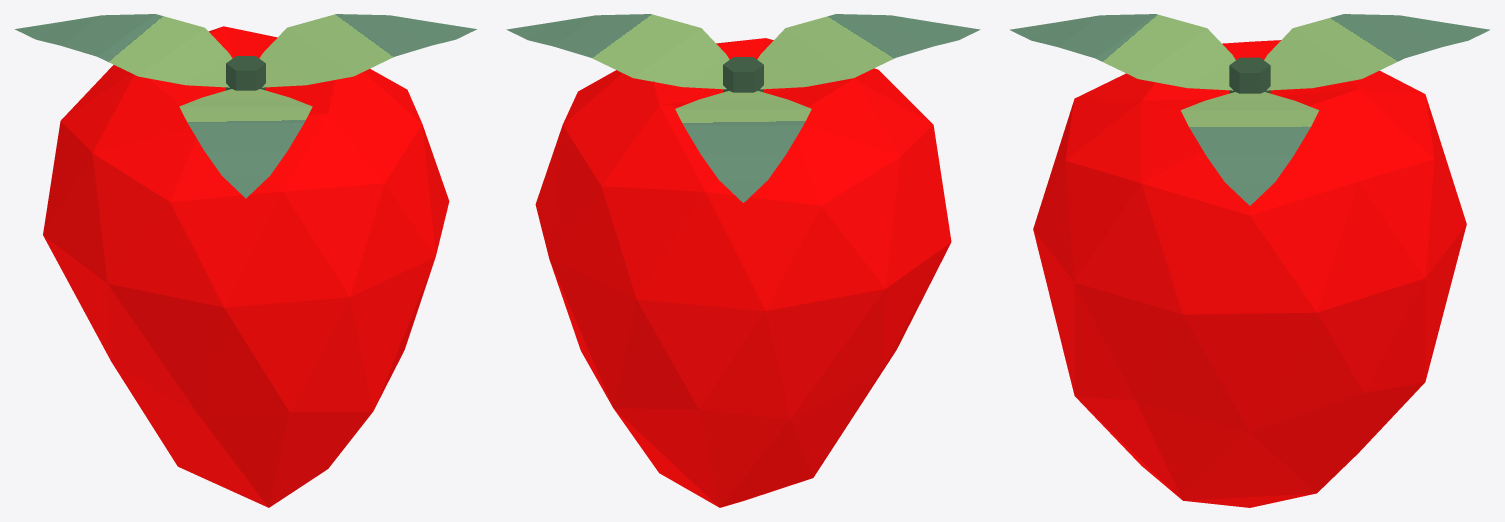
The model's file is StrawberryModel.glb.
3 views of the same model, side by side, from view 1: azimuth 30°, elevation 25°; view 2: azimuth 150°, elevation 25°; view 3: azimuth 270°, elevation 25° (orthographic). The views are drawn at different scales.
Parts seen in each view (by area): view 1: Icosphere; view 2: Icosphere; view 3: Icosphere.
Boxes of the visible parts, bbox=[...] form: Icosphere: bbox=[15, 14, 476, 507]; Icosphere: bbox=[506, 14, 980, 507]; Icosphere: bbox=[1009, 14, 1490, 507].
Size of the model in its own units: 2.23 by 2.25 by 2.22.
1 material, 1 textured.
